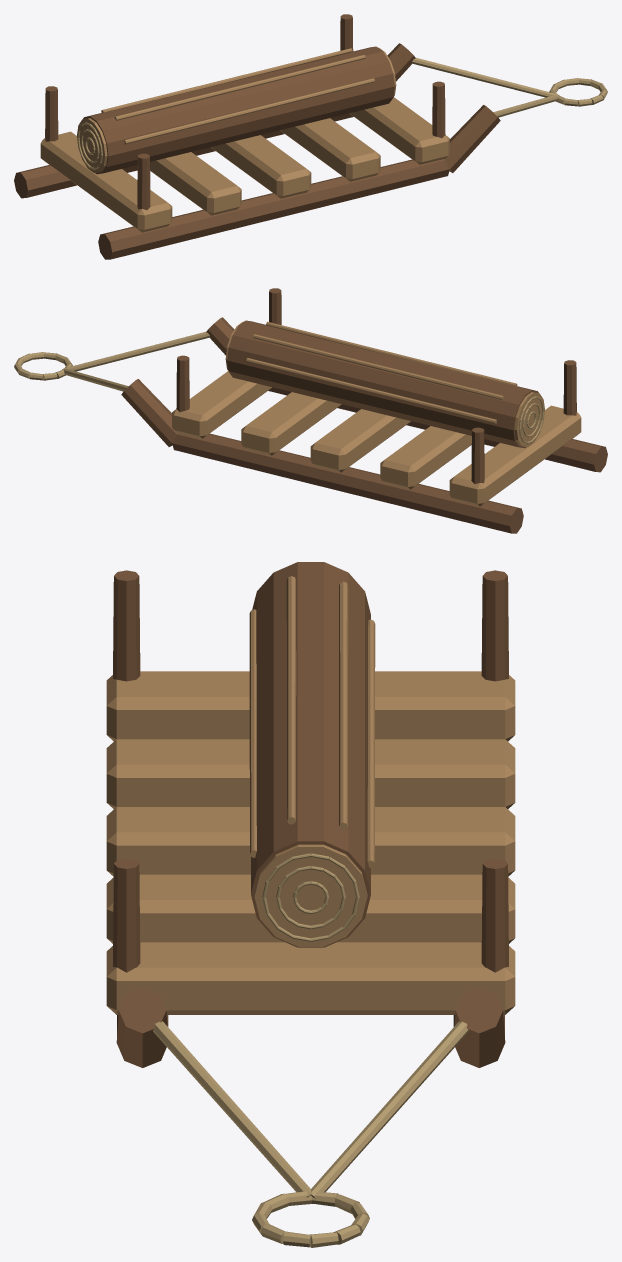
3 views of the same model, one above another, from view 1: azimuth 30°, elevation 25°; view 2: azimuth 150°, elevation 25°; view 3: azimuth 270°, elevation 25° (orthographic). The views are drawn at different scales.
Visible parts, largest first — view 1: WW-008 Timber hauling sled batched; view 2: WW-008 Timber hauling sled batched; view 3: WW-008 Timber hauling sled batched.
Boxes of the visible parts, x1,y1,x2,y2 form: WW-008 Timber hauling sled batched: [14, 14, 607, 259]; WW-008 Timber hauling sled batched: [14, 288, 607, 533]; WW-008 Timber hauling sled batched: [106, 562, 515, 1247].
Bounding box in the file's own units: 3.12 × 0.5799 × 1.02.
